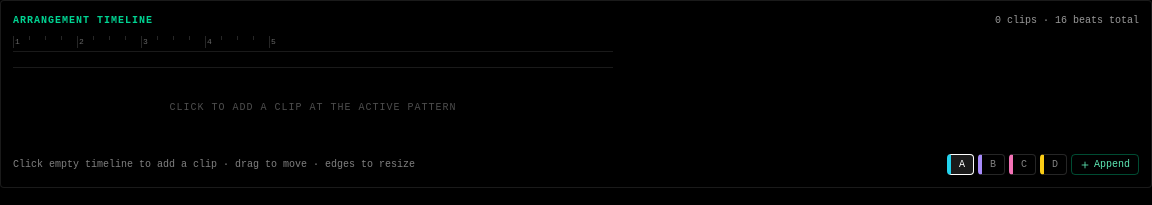
Test: ArrangementPanel › adds a clip by clicking the empty timeline
Click the element showing "Click to add a clip at the active pattern" at {"x": 313, "y": 107}, box [170, 102, 456, 112]
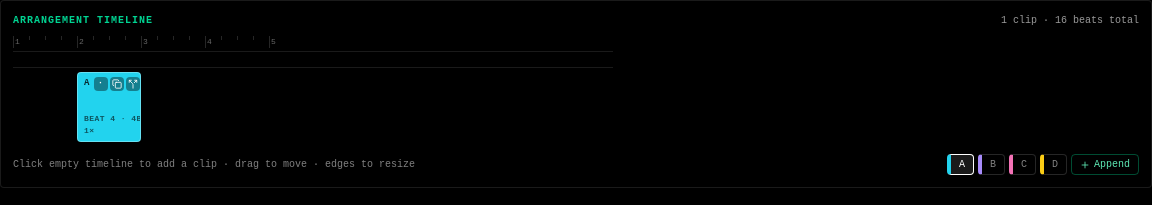
Expected: the text "1 clip · 16 beats total" is shown, [1001, 13, 1139, 28]
